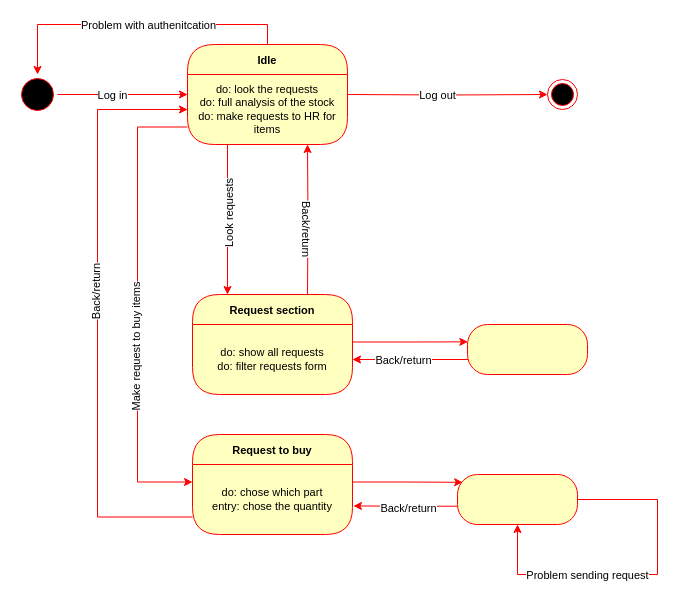
This 683x600 diagram has some shape labels left out. The centre of each missing label's shape, as x and y in pixels:
Finish requests: the point at 527,349
Sends request: the point at 517,499
